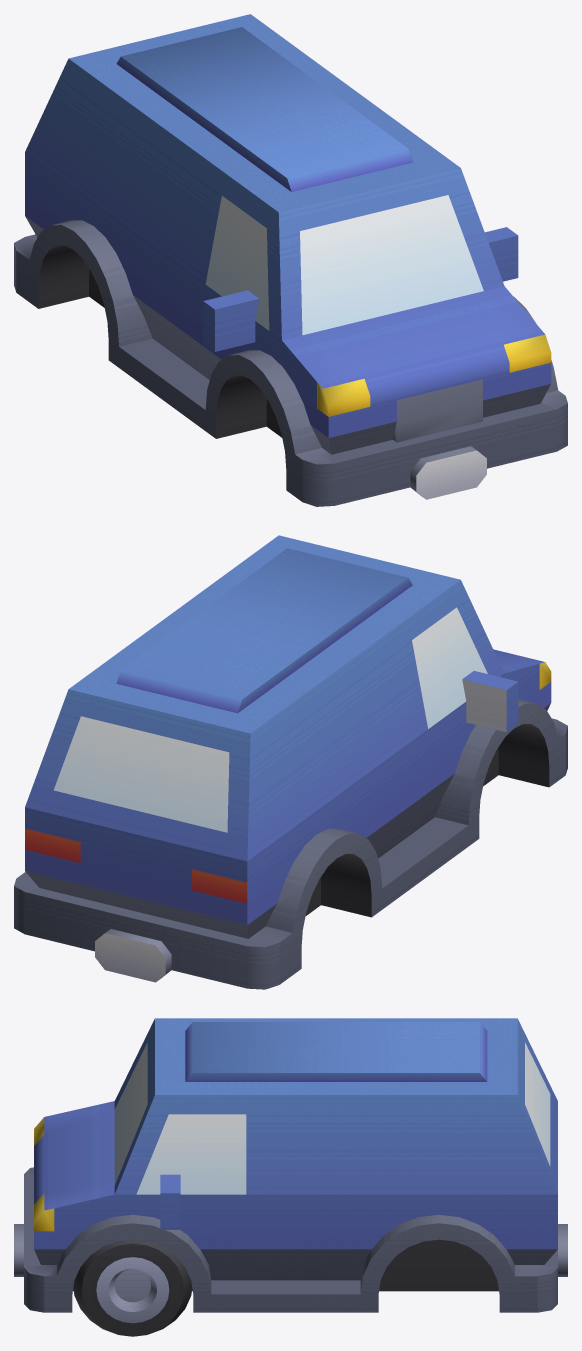
The model's file is vanFLWheel.glb.
3 views of the same model, one above another, from view 1: azimuth 30°, elevation 25°; view 2: azimuth 150°, elevation 25°; view 3: azimuth 270°, elevation 25° (orthographic). The views are drawn at different scales.
Parts seen in each view (by area): view 1: body; view 2: body; view 3: body, wheel-front-left.
Boxes of the visible parts, x1,y1,x2,y2 form: body: (14,14,567,506); body: (14,535,567,989); body: (14,1018,567,1312); wheel-front-left: (73,1239,192,1336).
Bounding box in the file's own units: 1.5 × 1.35 × 2.75.
Materials: 1 (1 with a texture image).
